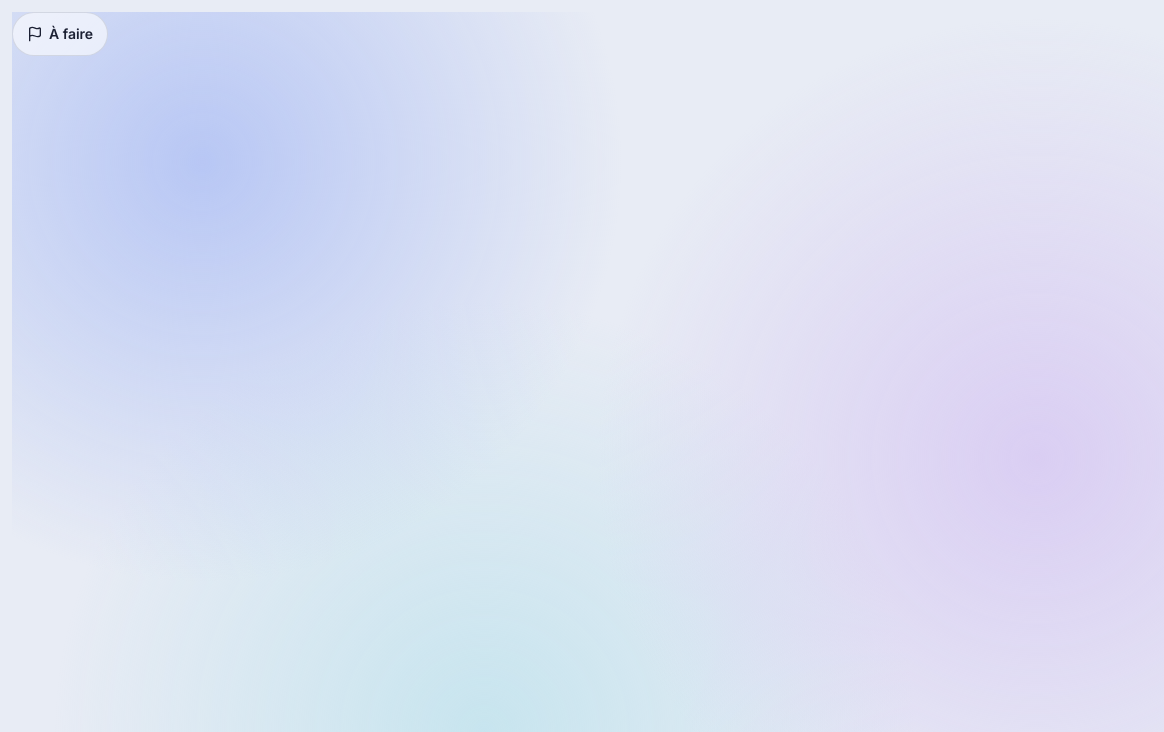
Test: pastille à choix unique › menu placé comme les autres pastilles : 16 px des bords latéraux et du haut
Click the button with aria-label "Statut : À faire".
click(60, 34)  # box [12,12,108,56]
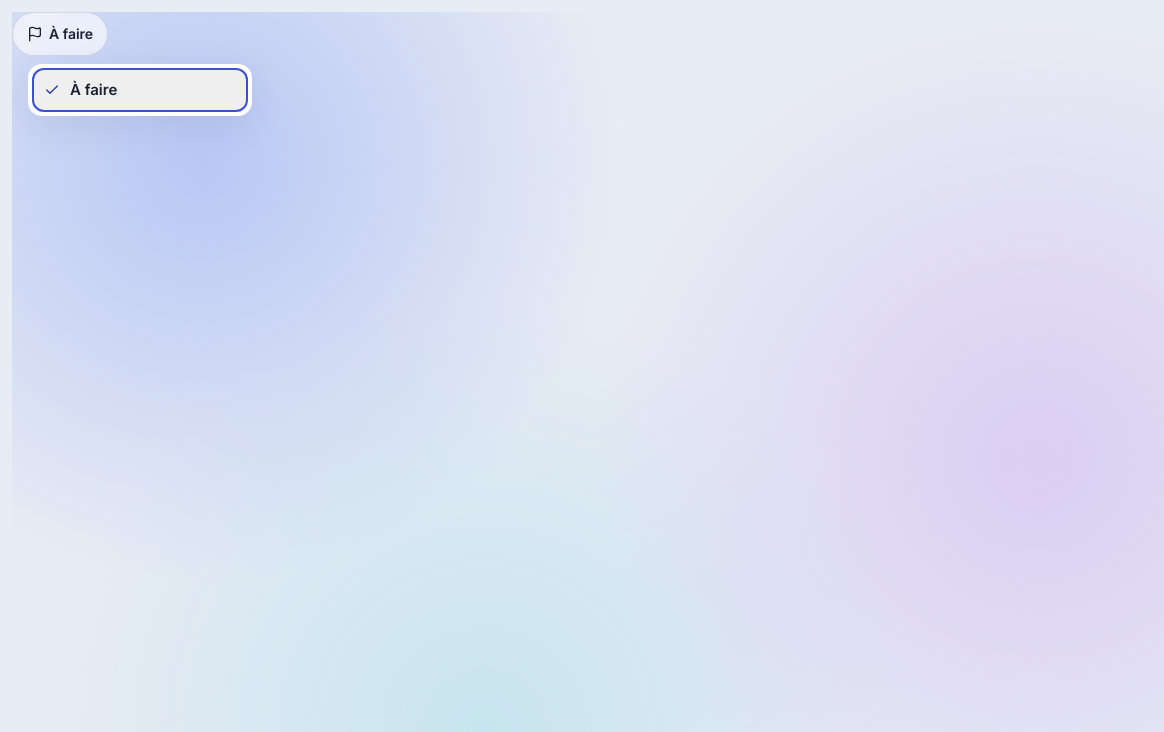
Expected: the menu item "À faire" is shown, [32,68,248,112]
